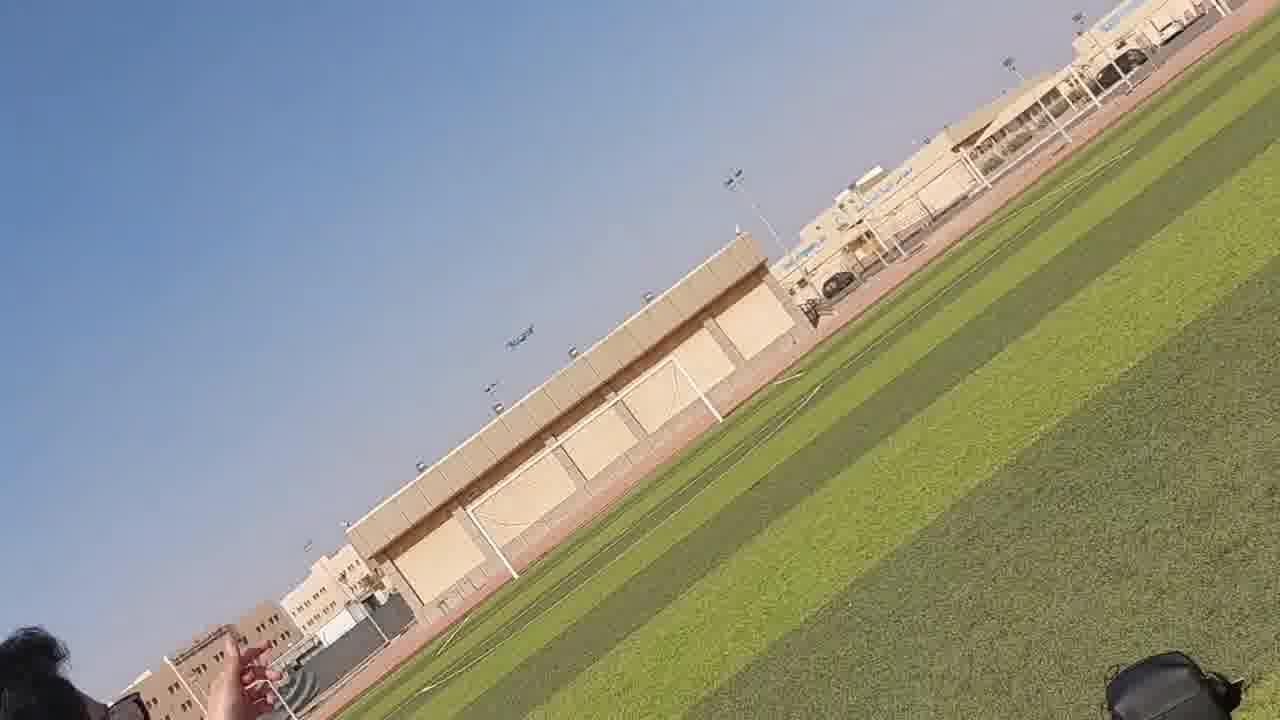drone: (497, 305, 547, 351)
